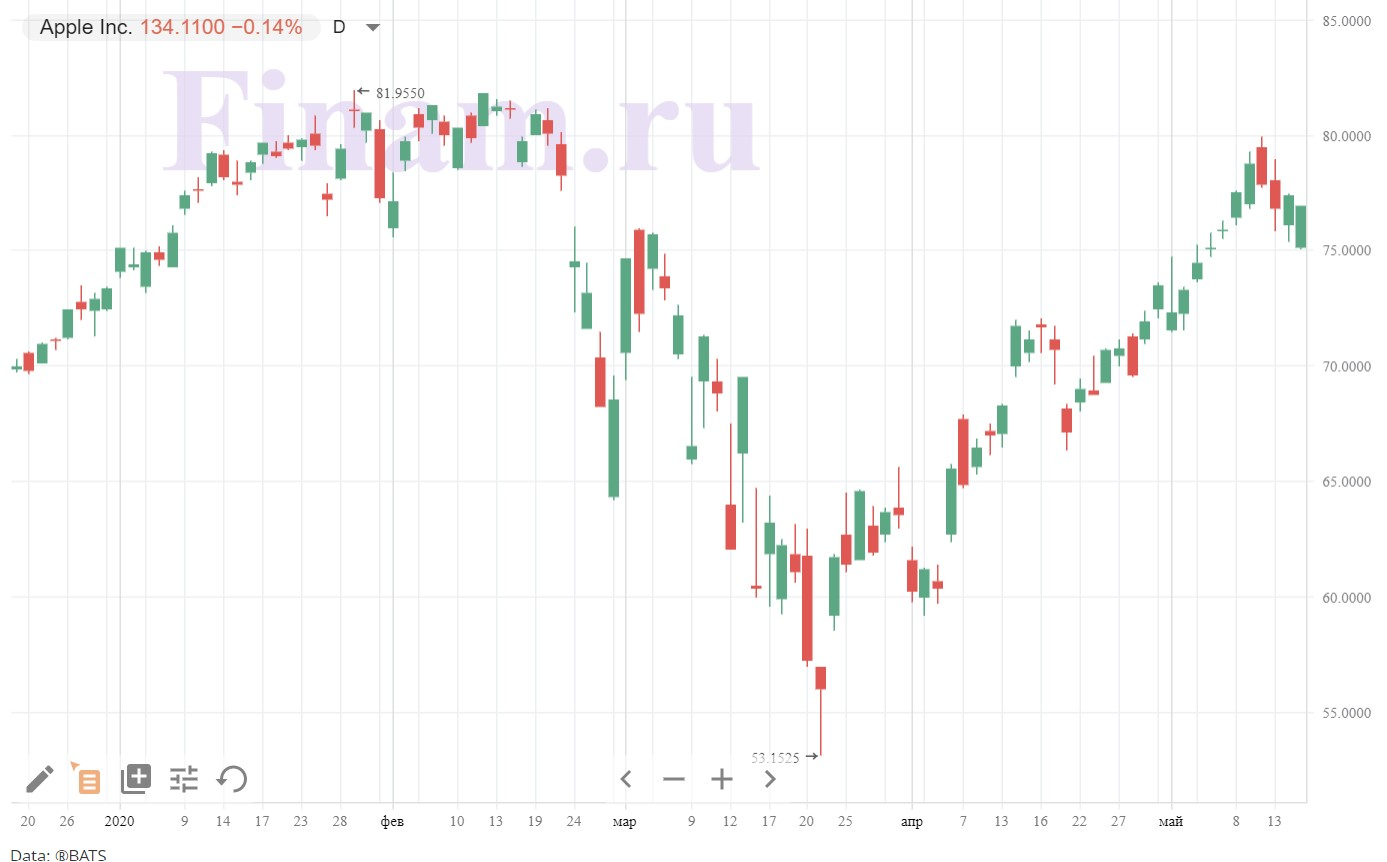morningStar: (374, 113, 412, 233)
